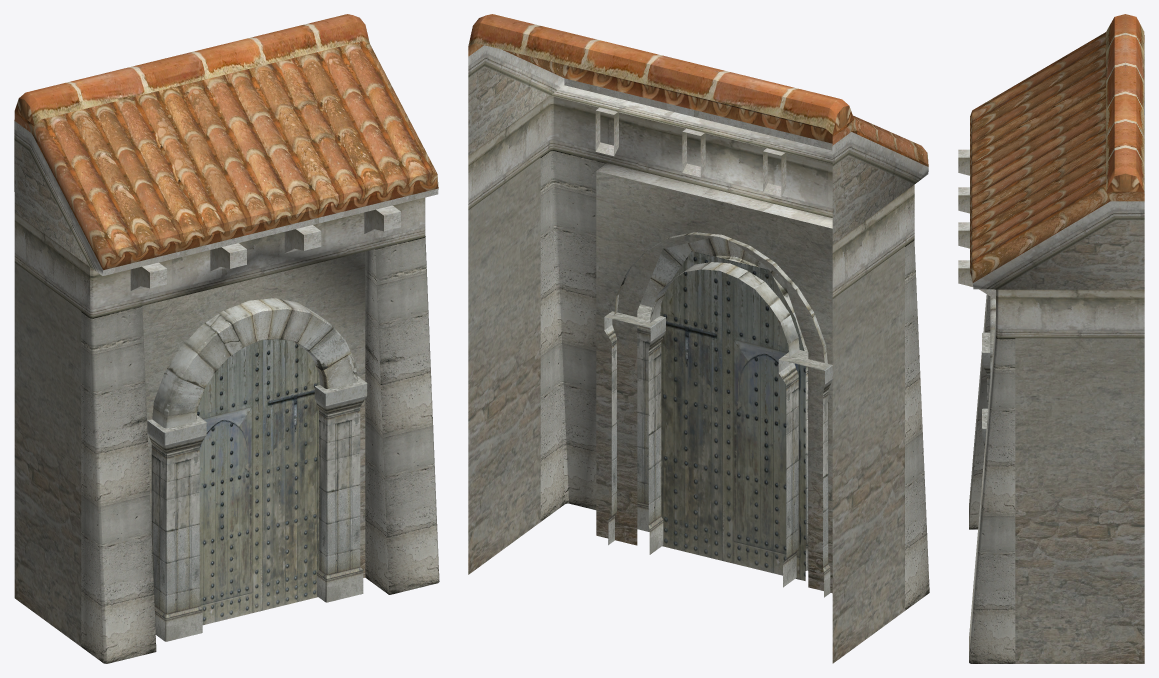
Rendered from bg_atm_aborder_abbeydoor01_sm_jjy.FBX.
3 renders of one model, left to right at view 1: azimuth 30°, elevation 25°; view 2: azimuth 150°, elevation 25°; view 3: azimuth 270°, elevation 25°, orthographic. The views are drawn at different scales.
Visible parts, largest first — view 1: bg_atm_aborder_abbeydoor01_sm_jjy; view 2: bg_atm_aborder_abbeydoor01_sm_jjy; view 3: bg_atm_aborder_abbeydoor01_sm_jjy.
Boxes of the visible parts, x1,y1,x2,y2 form: bg_atm_aborder_abbeydoor01_sm_jjy: [14, 14, 439, 663]; bg_atm_aborder_abbeydoor01_sm_jjy: [468, 14, 929, 663]; bg_atm_aborder_abbeydoor01_sm_jjy: [958, 14, 1144, 663].
Bounding box in the file's own units: 236 × 344 × 117.
